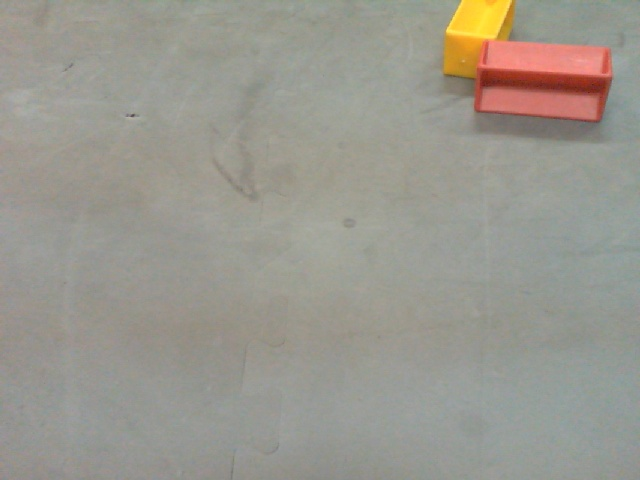RedSample: (470, 42, 612, 124)
YellowSample: (443, 1, 506, 76)
